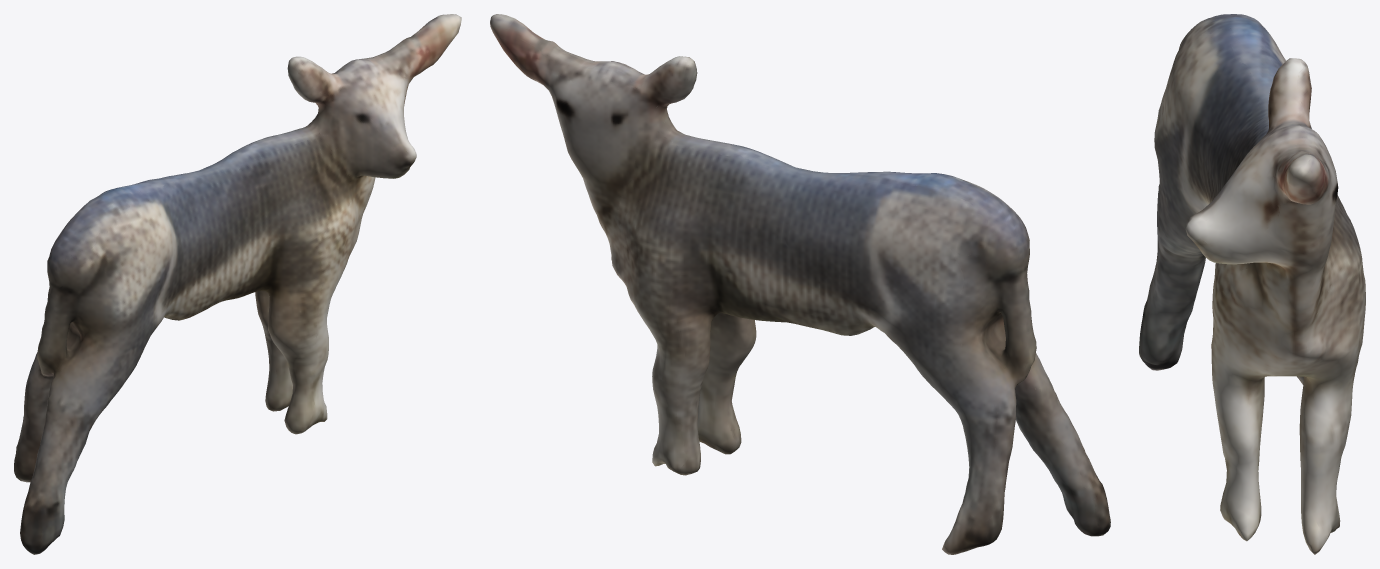
File: bebe.glb
3 views of the same model, side by side, from view 1: azimuth 30°, elevation 25°; view 2: azimuth 150°, elevation 25°; view 3: azimuth 270°, elevation 25° (orthographic). The views are drawn at different scales.
Parts seen in each view (by area): view 1: mesh; view 2: mesh; view 3: mesh.
Boxes of the visible parts, left/top/right/bottom form: mesh: left=14, top=14, right=461, bottom=554; mesh: left=490, top=14, right=1110, bottom=554; mesh: left=1139, top=14, right=1365, bottom=554.
Size of the model in its own units: 1.6 by 1.19 by 0.4743.
Materials: 1 (1 with a texture image).
